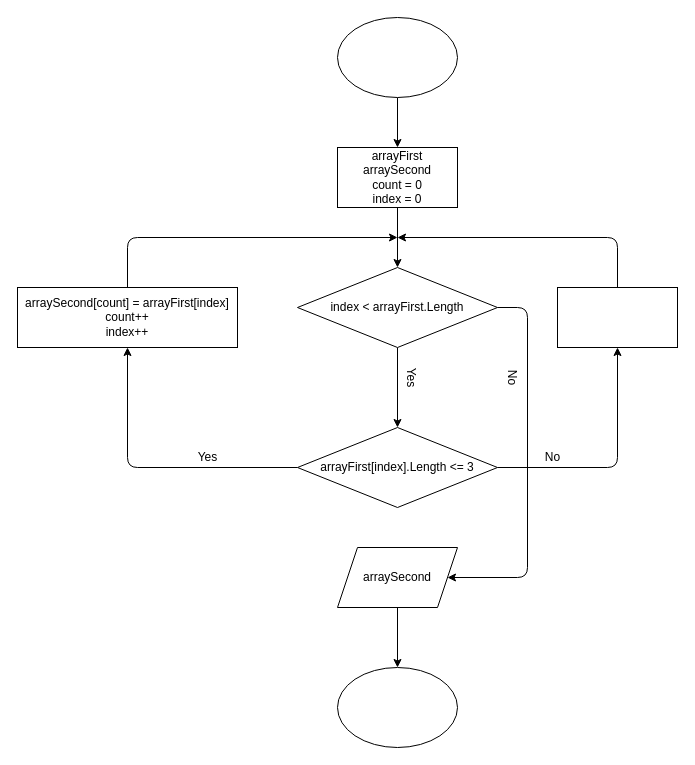
Some shapes in this 695 by 765 pixel diagram are drawn without their labels. The centre of each missing label's shape, as x and y in pixels:
"index++" belongs at (x=617, y=317).
"КОНЕЦ" belongs at (x=397, y=707).
"НАЧАЛО" belongs at (x=397, y=57).
